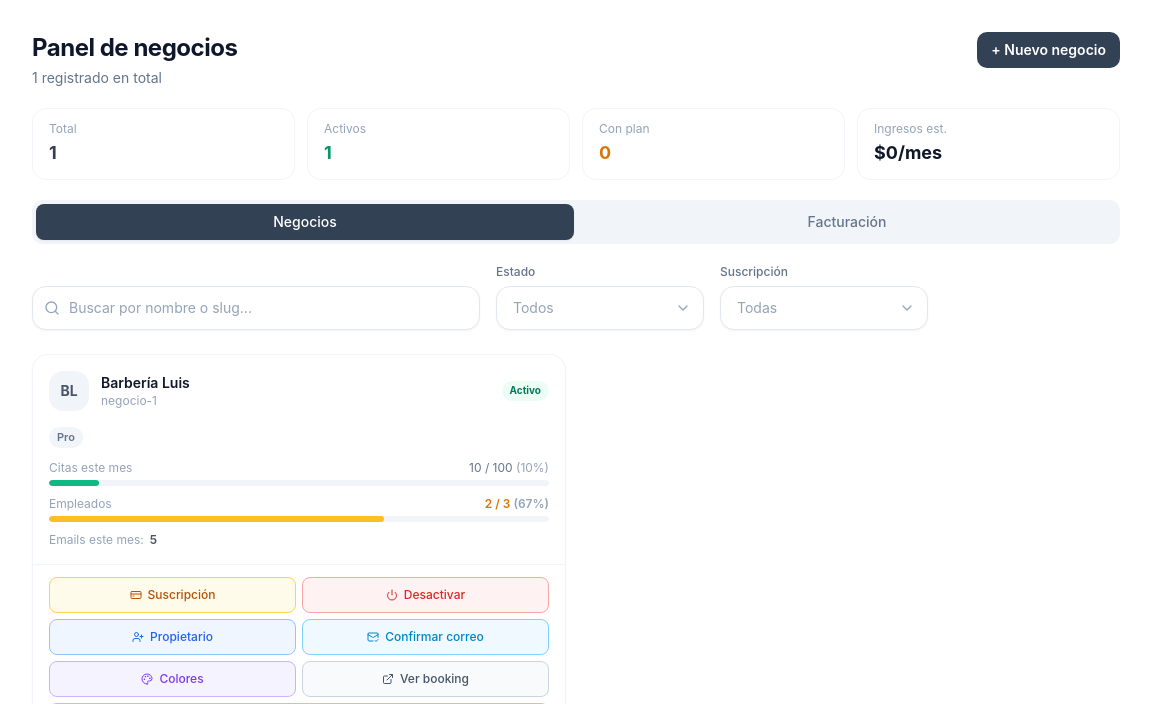
NegociosAdminPage — desactivar negocio › volver cierra la confirmación sin desactivar
Expected: the text "Barbería Luis" is shown, [101,374,190,391]
Click the button "Desactivar": (426, 595) [302,577,549,613]
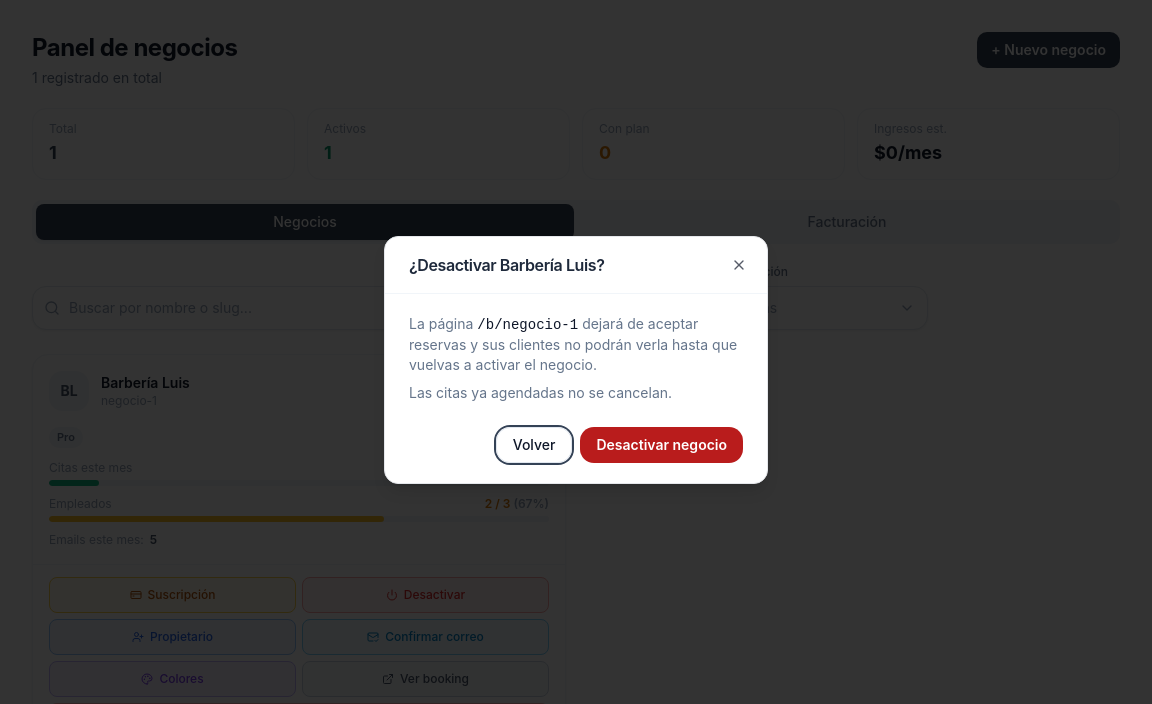
Click the button "Volver": (534, 445) [496,427,572,463]
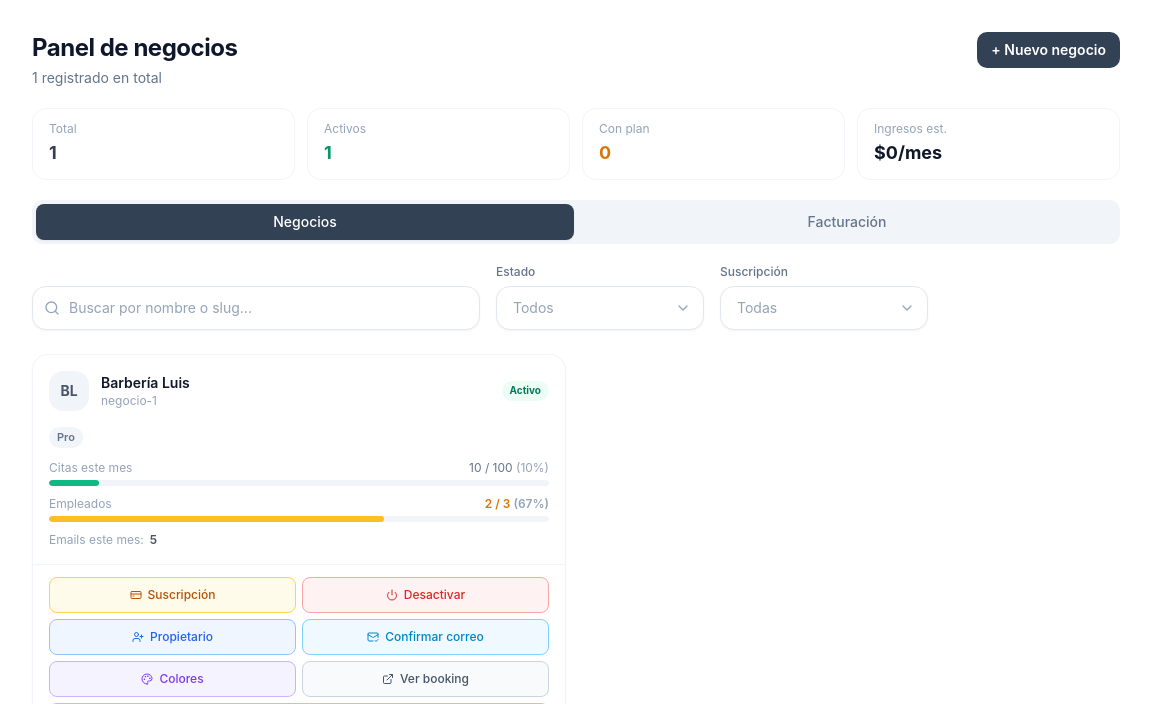
Result: the dialog is gone
